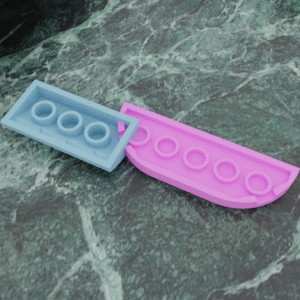lego: (118, 101, 300, 208), (0, 79, 139, 172)
